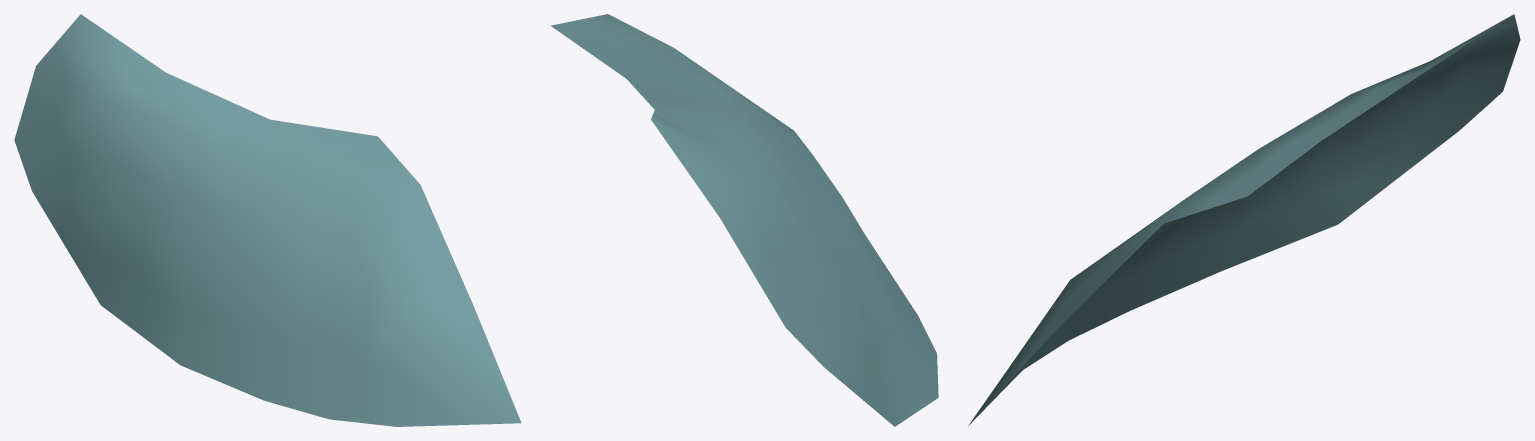
Rendered from VAN_2_Window_Light_P_Tessellate.fbx.
The picture shows the model from 3 angles, left to right: view 1: azimuth 30°, elevation 25°; view 2: azimuth 150°, elevation 25°; view 3: azimuth 270°, elevation 25°; orthographic projection. The views are drawn at different scales.
Parts seen in each view (by area): view 1: VAN_2_Window_Light_P_Tessellate; view 2: VAN_2_Window_Light_P_Tessellate; view 3: VAN_2_Window_Light_P_Tessellate.
Boxes of the visible parts, x1,y1,x2,y2 form: VAN_2_Window_Light_P_Tessellate: (14, 14, 521, 426); VAN_2_Window_Light_P_Tessellate: (551, 14, 938, 426); VAN_2_Window_Light_P_Tessellate: (968, 14, 1520, 425).
Bounding box in the file's own units: 343 × 338 × 551.
